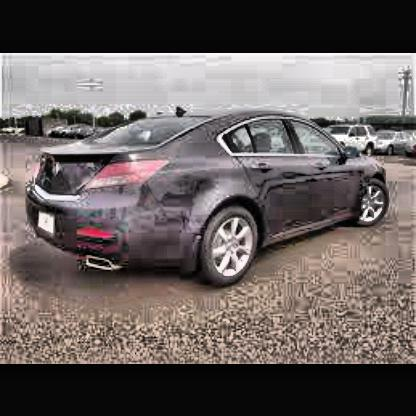Acura TL Sedan 2012: (18, 92, 409, 307)
